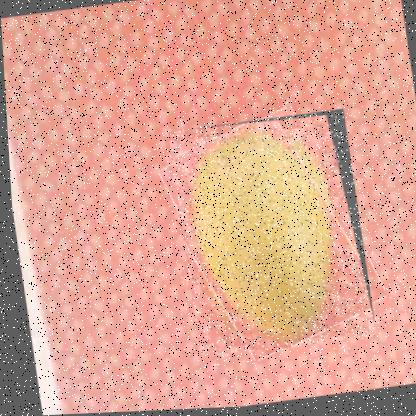mango: (165, 109, 373, 361)
